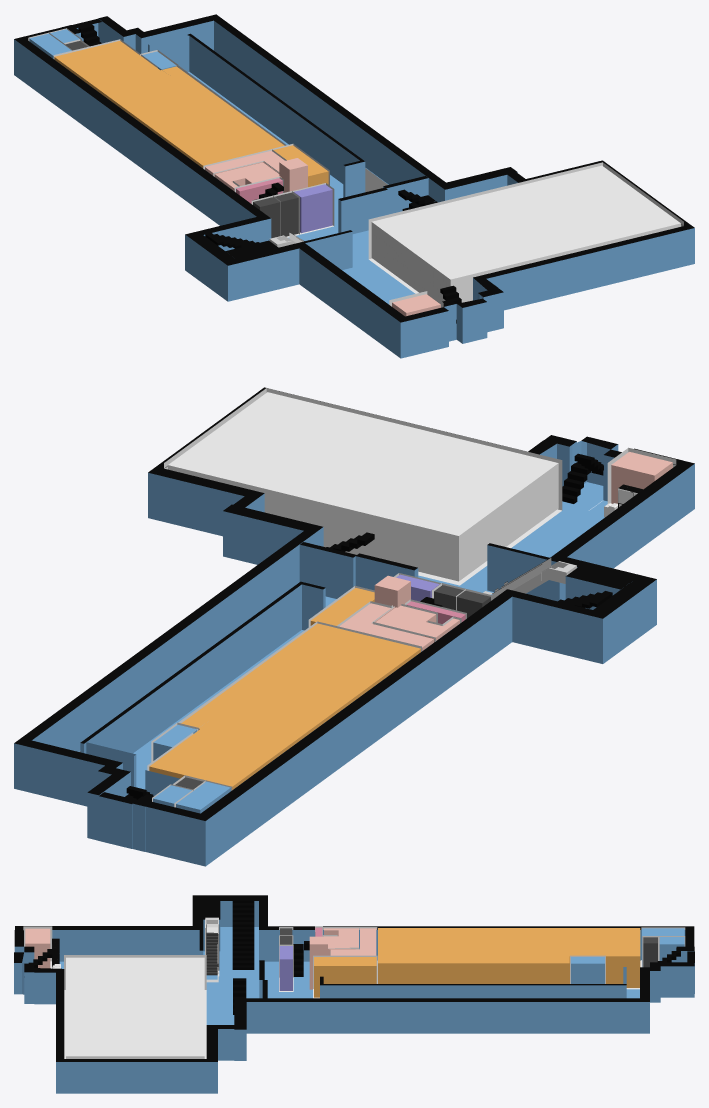
The picture shows the model from 3 angles, top to bottom: view 1: azimuth 30°, elevation 25°; view 2: azimuth 150°, elevation 25°; view 3: azimuth 270°, elevation 25°; orthographic projection. The views are drawn at different scales.
Visible parts, largest first — view 1: object, room_10_4_1, object_食堂, object_10_4_1_line, object_10301, エレベーター_10_4_2, トイレ_10_4_3, トイレ_10_4_4, 食堂_10_4_2, トイレ_10_4_2, object_女子トイレ_4_1, object_10_4_2_line (+1 smaller); view 2: object, room_10_4_1, object_食堂, object_10301, トイレ_10_4_2, トイレ_10_4_3, トイレ_10_4_1, エスカレーター_10_4_1, 食堂_10_4_2, 階段_10_4_1, エレベーター_10_4_2, object_10_4_4 (+2 smaller); view 3: object, room_10_4_1, object_食堂, 食堂_10_4_1, 食堂_10_4_2, 階段_10_4_3, object_10301, 食堂_10_4_3, エスカレーター_10_4_1, トイレ_10_4_2, object_10_4_1_line, トイレ_10_4_3 (+8 smaller).
Part boxes in pixels (bbox=[...]): object: bbox=[14, 14, 694, 358]; room_10_4_1: bbox=[371, 165, 680, 302]; object_食堂: bbox=[53, 39, 286, 165]; object_10_4_1_line: bbox=[292, 183, 334, 234]; object_10301: bbox=[368, 162, 683, 293]; エレベーター_10_4_2: bbox=[253, 192, 298, 238]; トイレ_10_4_3: bbox=[214, 162, 281, 191]; トイレ_10_4_4: bbox=[279, 158, 307, 192]; 食堂_10_4_2: bbox=[273, 145, 328, 186]; トイレ_10_4_2: bbox=[392, 294, 440, 316]; object_女子トイレ_4_1: bbox=[203, 149, 286, 172]; object_10_4_2_line: bbox=[234, 176, 283, 203]; object: bbox=[14, 387, 694, 866]; room_10_4_1: bbox=[168, 392, 558, 581]; object_食堂: bbox=[147, 621, 421, 786]; object_10301: bbox=[164, 388, 562, 585]; トイレ_10_4_2: bbox=[611, 452, 672, 503]; トイレ_10_4_3: bbox=[375, 605, 459, 642]; トイレ_10_4_1: bbox=[339, 603, 433, 650]; エスカレーター_10_4_1: bbox=[483, 557, 576, 599]; 食堂_10_4_2: bbox=[310, 588, 374, 625]; 階段_10_4_1: bbox=[562, 453, 603, 503]; エレベーター_10_4_2: bbox=[434, 585, 490, 618]; object_10_4_4: bbox=[176, 781, 230, 813]; object: bbox=[14, 895, 694, 1093]; room_10_4_1: bbox=[66, 957, 204, 1058]; object_食堂: bbox=[377, 928, 641, 989]; 食堂_10_4_1: bbox=[378, 963, 569, 983]; 食堂_10_4_2: bbox=[314, 957, 376, 997]; 階段_10_4_3: bbox=[232, 898, 254, 969]; object_10301: bbox=[64, 955, 206, 1058]; 食堂_10_4_3: bbox=[571, 957, 604, 983]; エスカレーター_10_4_1: bbox=[205, 917, 219, 982]; トイレ_10_4_2: bbox=[25, 928, 50, 968]; object_10_4_1_line: bbox=[279, 944, 293, 991]; トイレ_10_4_3: bbox=[324, 928, 358, 949].
Size of the model in its own units: 1.57 by 0.2848 by 2.71.
44 materials, 7 textured.
